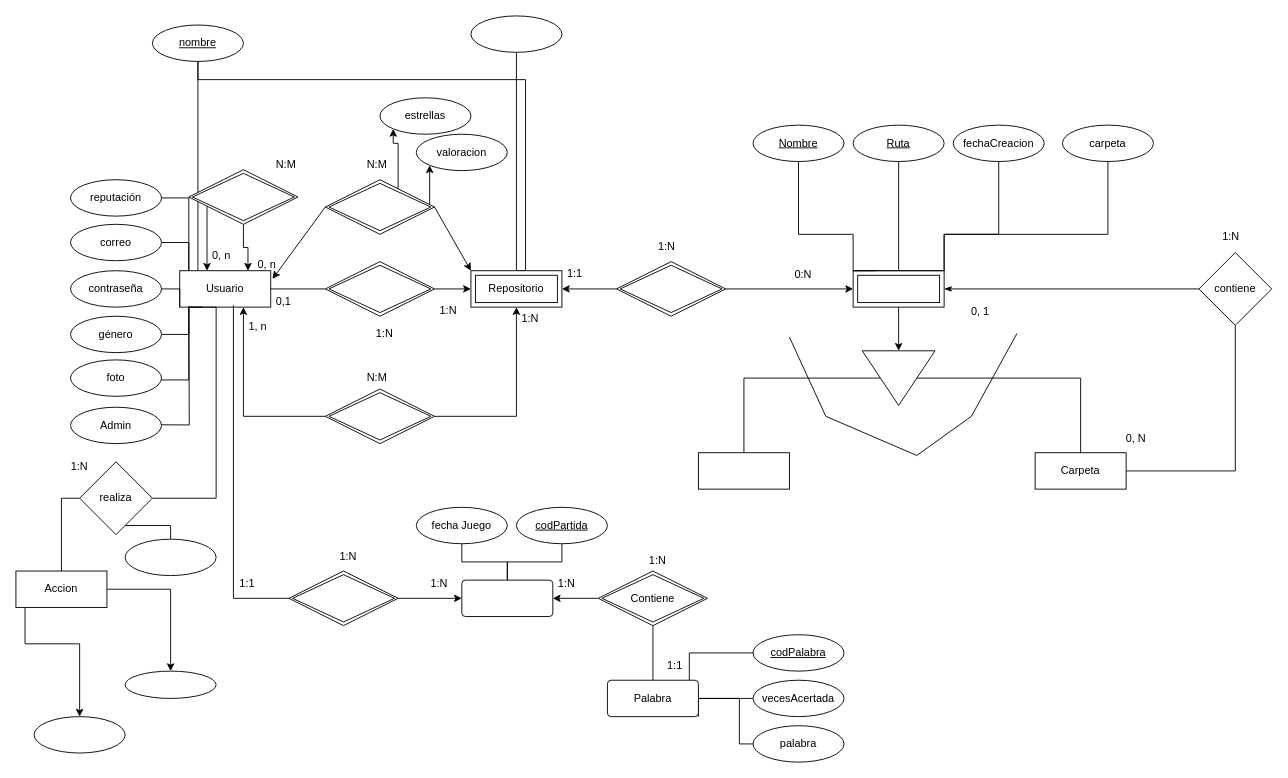
This 1288x778 diagram has some shape labels left out. Here are the shapes that lost their labels. From the top down, the box of each, then its label:
(470, 15, 562, 52): nombre Repo
(188, 169, 298, 224): solicita acceso
(324, 179, 435, 234): Opina
(324, 261, 435, 316): Posee
(616, 261, 726, 316): Incluye
(852, 270, 944, 307): Archivo
(324, 388, 435, 444): Ver
(698, 452, 789, 489): Fichero
(124, 538, 216, 576): fechaRealizacion
(288, 570, 398, 626): Juega
(461, 579, 553, 617): Partida
(124, 670, 216, 698): tipo
(33, 716, 125, 753): codigo Accion PK
